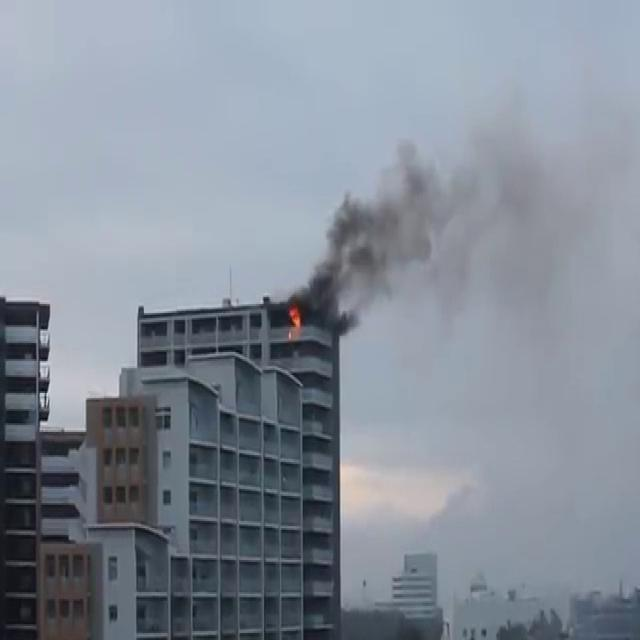Fire: (285, 295, 305, 341)
Smoke: (304, 52, 640, 352)
